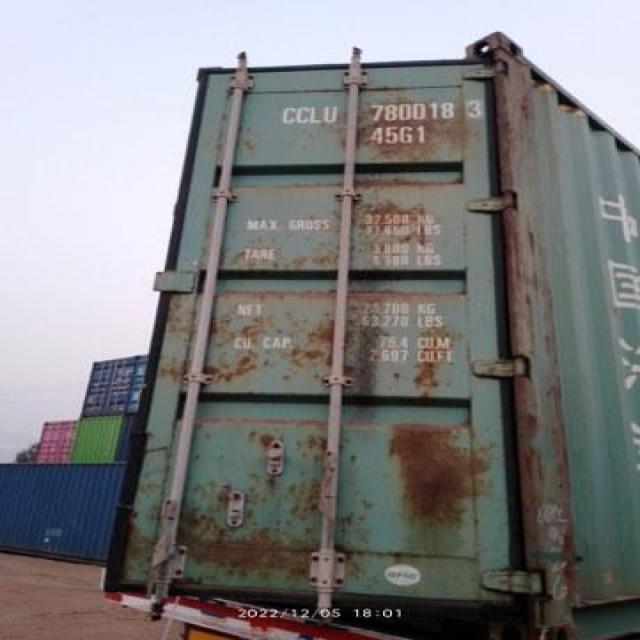container_number_h: (265, 85, 501, 165)
